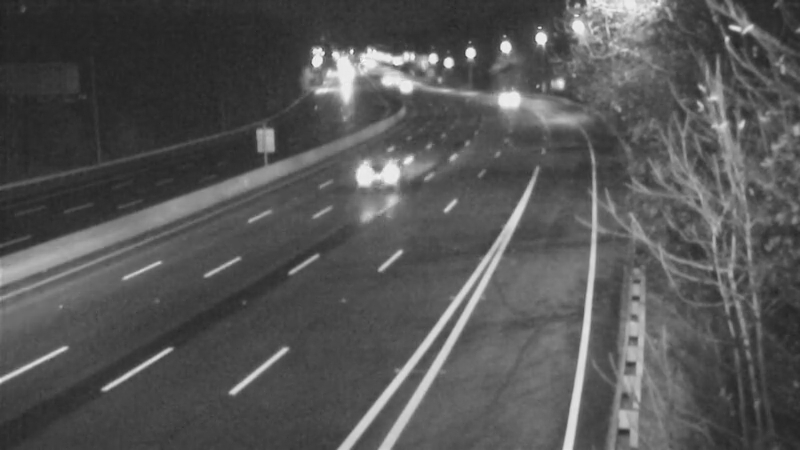vehicle: (340, 133, 420, 213), (361, 58, 411, 108), (379, 61, 429, 111), (471, 69, 521, 119)
